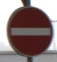No entry: (5, 5, 52, 56)
